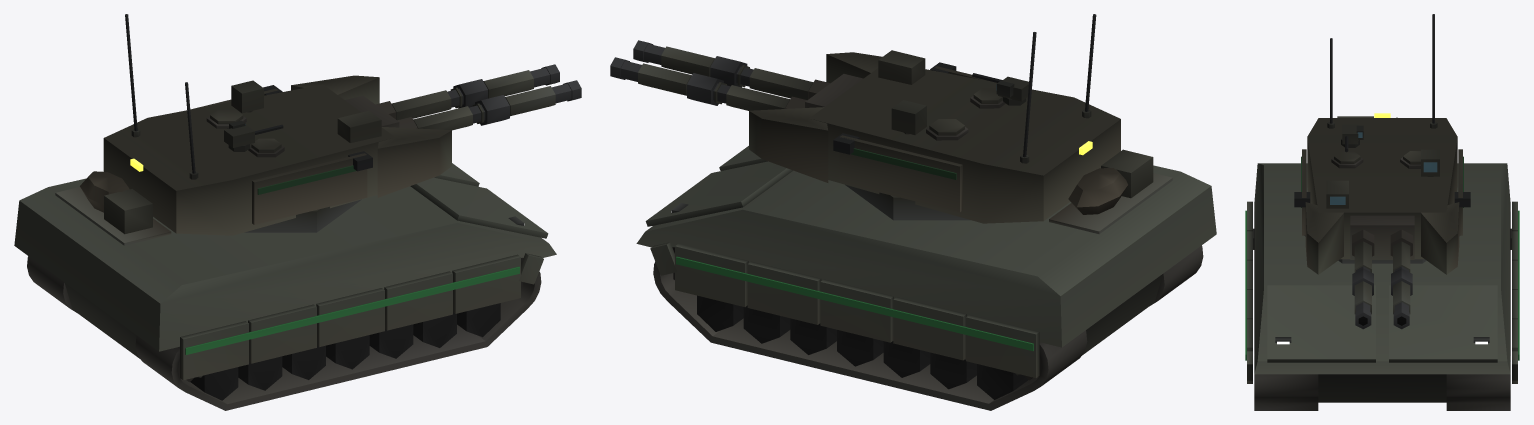
The model's file is u_heavy_lod1.glb.
The picture shows the model from 3 angles, left to right: view 1: azimuth 30°, elevation 25°; view 2: azimuth 150°, elevation 25°; view 3: azimuth 270°, elevation 25°; orthographic projection. The views are drawn at different scales.
Visible parts, largest first — view 1: Heavy_LOD1_Walls, Heavy_LOD1_turret, Heavy_LOD1_Foundation, Heavy_LOD1_Details; view 2: Heavy_LOD1_Walls, Heavy_LOD1_turret, Heavy_LOD1_Foundation, Heavy_LOD1_Details; view 3: Heavy_LOD1_Walls, Heavy_LOD1_turret, Heavy_LOD1_Foundation, Heavy_LOD1_Details.
Part boxes in pixels (x1=…): Heavy_LOD1_Walls: x1=14, y1=163, x2=556, y2=380; Heavy_LOD1_turret: x1=55, y1=14, x2=581, y2=245; Heavy_LOD1_Foundation: x1=27, y1=256, x2=541, y2=410; Heavy_LOD1_Details: x1=185, y1=216, x2=524, y2=354; Heavy_LOD1_Walls: x1=636, y1=146, x2=1216, y2=377; Heavy_LOD1_turret: x1=610, y1=14, x2=1172, y2=234; Heavy_LOD1_Foundation: x1=653, y1=245, x2=1203, y2=410; Heavy_LOD1_Details: x1=671, y1=203, x2=1033, y2=351; Heavy_LOD1_Walls: x1=1247, y1=163, x2=1517, y2=402; Heavy_LOD1_turret: x1=1294, y1=14, x2=1470, y2=329; Heavy_LOD1_Foundation: x1=1254, y1=211, x2=1510, y2=410; Heavy_LOD1_Details: x1=1245, y1=210, x2=1519, y2=360.
Size of the model in its own units: 1.53 by 0.9804 by 0.856.
